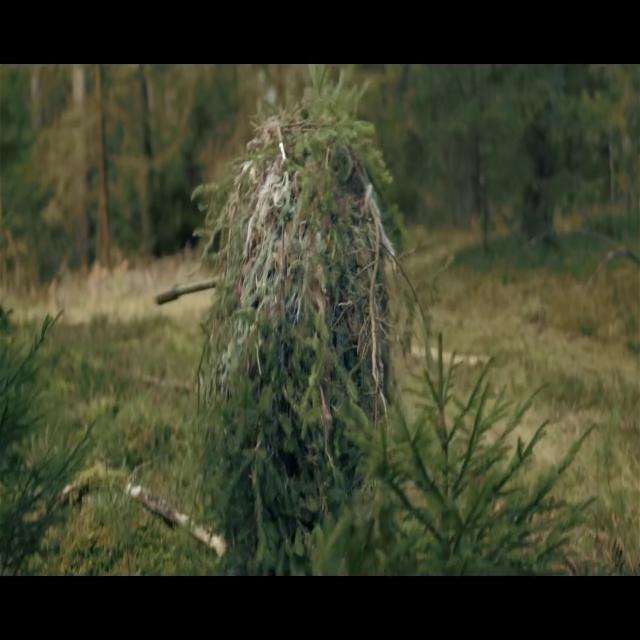Camouflage: (156, 90, 403, 572)
